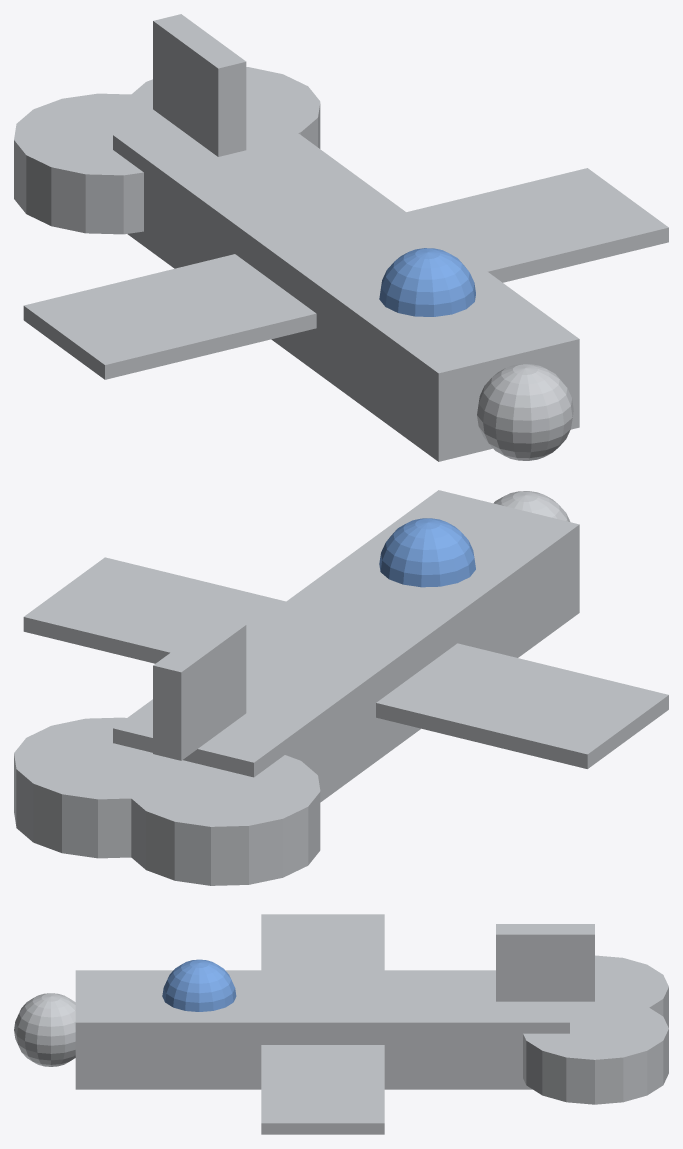
File: spaceship.glb
3 views of the same model, one above another, from view 1: azimuth 30°, elevation 25°; view 2: azimuth 150°, elevation 25°; view 3: azimuth 270°, elevation 25° (orthographic). The views are drawn at different scales.
Parts seen in each view (by area): view 1: fuselage, left_wing, right_wing, left_engine, tail, nose, cockpit, right_engine; view 2: fuselage, left_engine, left_wing, right_engine, right_wing, tail, cockpit, nose; view 3: fuselage, right_engine, right_wing, tail, left_wing, left_engine, nose, cockpit.
Part boxes in pixels (x1,y1,x2,y2): fuselage: (113, 101, 579, 461); left_wing: (23, 254, 316, 379); right_wing: (406, 168, 668, 282); left_engine: (14, 93, 168, 234); tail: (153, 14, 246, 156); nose: (477, 364, 573, 460); cockpit: (379, 248, 475, 316); right_engine: (129, 67, 320, 148); fuselage: (113, 490, 579, 802); left_engine: (127, 755, 320, 885); left_wing: (376, 643, 668, 768); right_engine: (14, 717, 202, 858); right_wing: (23, 557, 285, 663); tail: (153, 618, 246, 760); cockpit: (379, 518, 475, 587); nose: (493, 491, 570, 521); fuselage: (75, 970, 569, 1089); right_engine: (523, 1001, 668, 1104); right_wing: (261, 1045, 384, 1134); tail: (496, 924, 594, 1001); left_wing: (261, 914, 384, 970); left_engine: (570, 955, 668, 1027); nose: (14, 993, 75, 1066); cockpit: (162, 959, 236, 1011).
Bounding box in the file's own units: 4 × 1.2 × 5.3.
